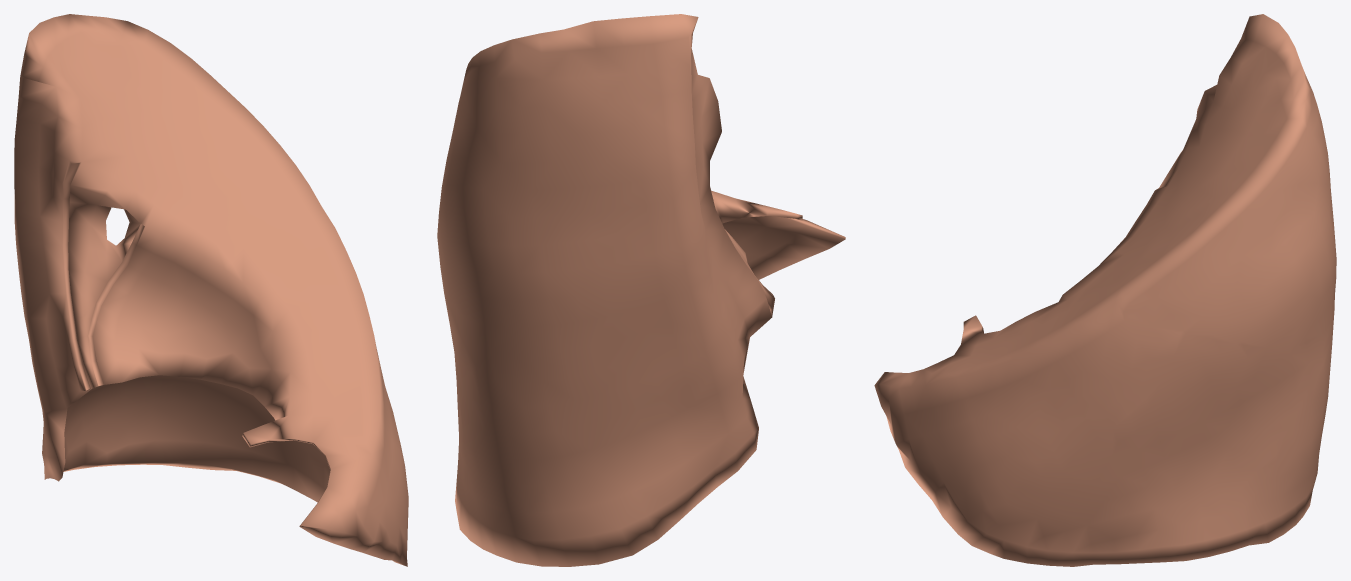
File: inferior-lobe-of-left-lung.glb
The picture shows the model from 3 angles, left to right: view 1: azimuth 30°, elevation 25°; view 2: azimuth 150°, elevation 25°; view 3: azimuth 270°, elevation 25°; orthographic projection. The views are drawn at different scales.
Visible parts, largest first — view 1: Inferior lobe of left lung; view 2: Inferior lobe of left lung; view 3: Inferior lobe of left lung.
Boxes of the visible parts, x1,y1,x2,y2 form: Inferior lobe of left lung: (14, 14, 408, 566); Inferior lobe of left lung: (437, 14, 845, 566); Inferior lobe of left lung: (874, 14, 1336, 566).
Bounding box in the file's own units: 0.1131 × 0.1974 × 0.1848.
